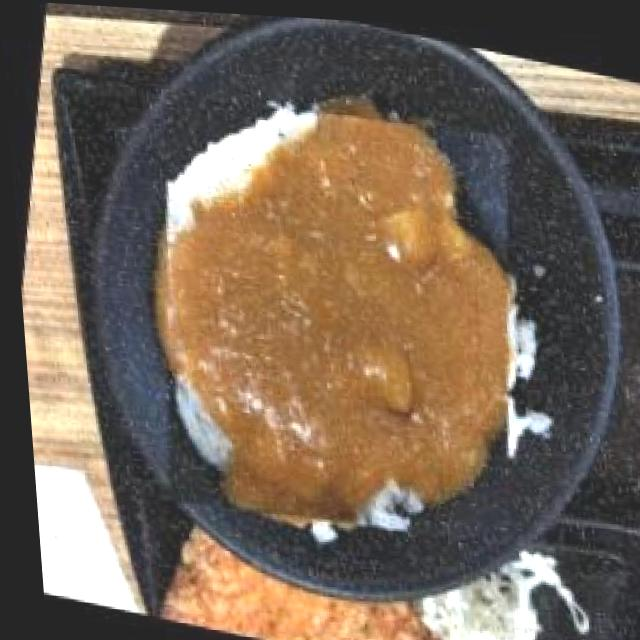curry: (100, 60, 567, 573)
